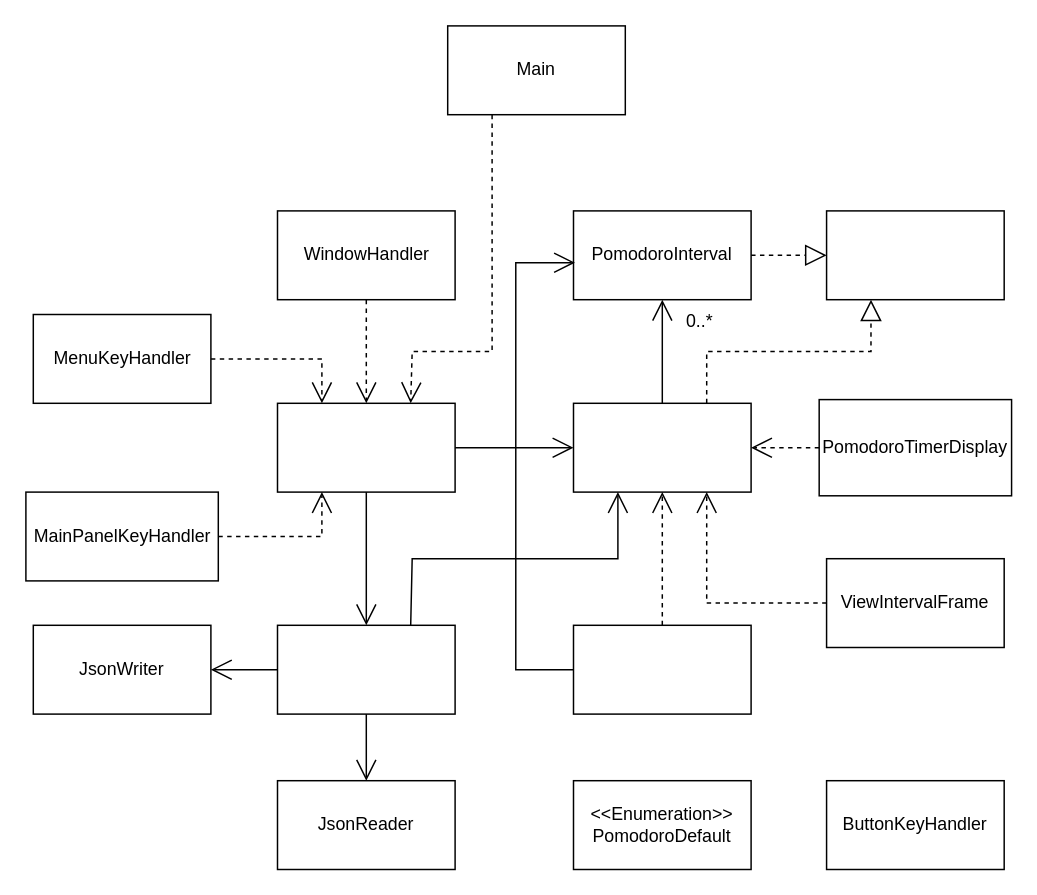
The diagram is 1037 pixels wide and 895 high, and some of its shapes have lost their labels. The shapes that lost their labels are listed below. From the top down, each one's centre as x and y in pixels, then its label:
point (914, 254): <<Interface>> Writable
point (365, 447): MainGUI
point (661, 447): PomodoroTimer
point (365, 669): PomodoroTimerApp
point (661, 669): AddIntervalFrame
